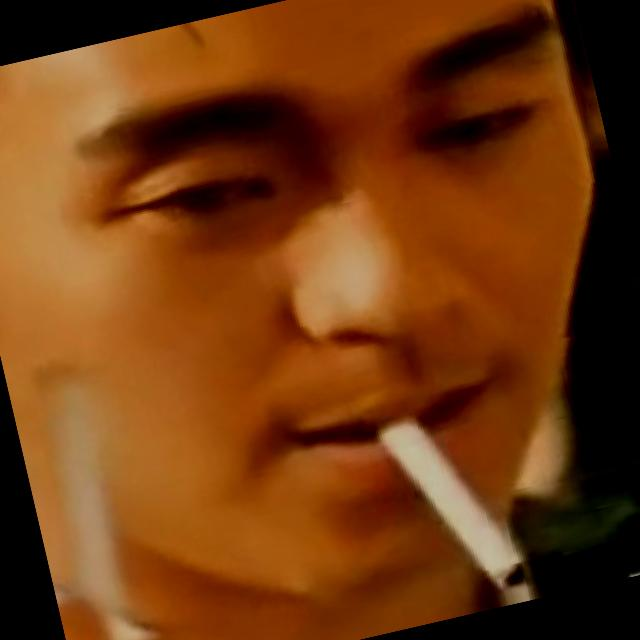smoke: (370, 398, 540, 614)
